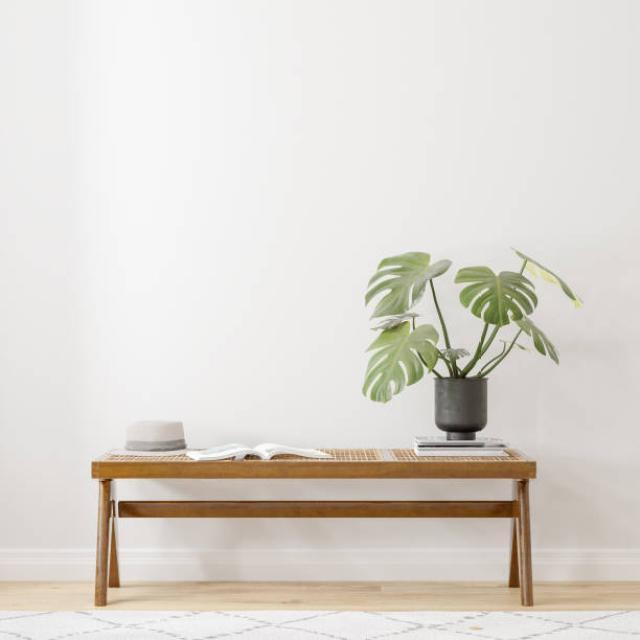table: (90, 441, 536, 608)
